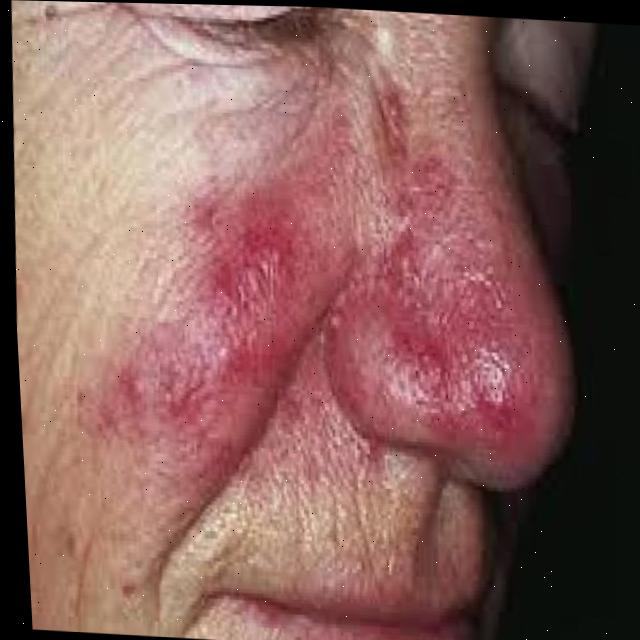Rosacea: (103, 118, 509, 470)
